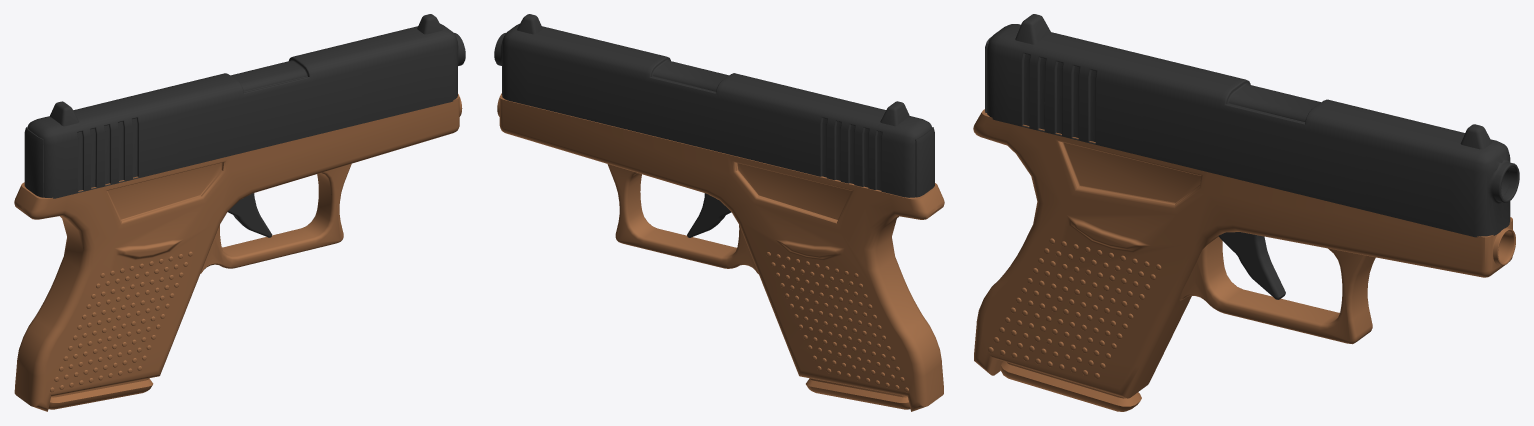
File: glock_.fbx
The picture shows the model from 3 angles, left to right: view 1: azimuth 30°, elevation 25°; view 2: azimuth 150°, elevation 25°; view 3: azimuth 330°, elevation 25°; orthographic projection. The views are drawn at different scales.
Parts seen in each view (by area): view 1: Cube.015, Cube.014, Cube.017, Cube.016; view 2: Cube.015, Cube.014, Cube.017, Cube.016; view 3: Cube.015, Cube.014, Cube.017, Cube.016.
Part boxes in pixels (x1,y1,x2,y2): Cube.015: (14, 94, 462, 411); Cube.014: (24, 14, 465, 198); Cube.017: (48, 378, 153, 409); Cube.016: (228, 193, 272, 237); Cube.015: (497, 93, 944, 411); Cube.014: (494, 14, 934, 197); Cube.017: (806, 378, 910, 409); Cube.016: (687, 193, 731, 237); Cube.015: (973, 109, 1515, 398); Cube.014: (985, 14, 1519, 237); Cube.017: (1000, 361, 1141, 411); Cube.016: (1218, 232, 1285, 299).
Size of the model in its own units: 68.65 by 45.92 by 7.12.
Materials: 1 (1 with a texture image).
